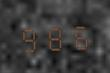eight: (43, 20, 66, 52)
nine: (18, 21, 41, 53)
six: (67, 19, 90, 51)
